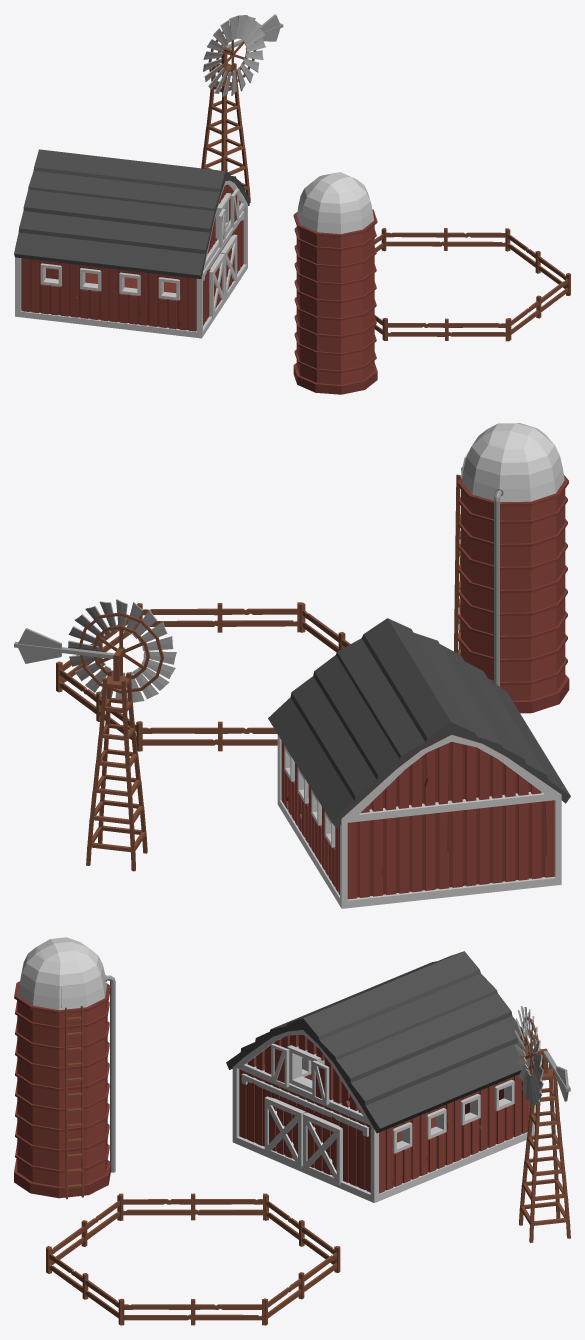
File: farm.fbx
3 renders of one model, top to bottom at view 1: azimuth 30°, elevation 25°; view 2: azimuth 150°, elevation 25°; view 3: azimuth 270°, elevation 25°, orthographic. The views are drawn at different scales.
Visible parts, largest first — view 1: Barn, Silo.001, Windmill_Blades, Windmill, Fence.001, Fence.004, Fence.002, Fence.003, Barn_Door2, Barn_Door; view 2: Barn, Silo.001, Windmill, Windmill_Blades, Fence.002, Fence, Fence.001, Fence.004; view 3: Barn, Silo.001, Windmill, Barn_Door, Barn_Door2, Fence.005, Fence.003, Windmill_Blades, Fence.001, Fence.002, Fence.004, Fence (+2 smaller).
Boxes of the visible parts, x1=… form: Barn: x1=14, y1=149, x2=250, y2=338; Silo.001: x1=293, y1=172, x2=377, y2=394; Windmill_Blades: x1=203, y1=15, x2=265, y2=96; Windmill: x1=201, y1=14, x2=283, y2=202; Fence.001: x1=382, y1=228, x2=508, y2=250; Fence.004: x1=385, y1=318, x2=509, y2=341; Fence.002: x1=507, y1=274, x2=570, y2=340; Fence.003: x1=506, y1=229, x2=570, y2=295; Barn_Door2: x1=209, y1=253, x2=224, y2=319; Barn_Door: x1=220, y1=234, x2=237, y2=300; Barn: x1=268, y1=618, x2=570, y2=908; Silo.001: x1=454, y1=423, x2=569, y2=713; Windmill: x1=14, y1=628, x2=147, y2=871; Windmill_Blades: x1=68, y1=599, x2=176, y2=702; Fence.002: x1=137, y1=602, x2=301, y2=632; Fence: x1=140, y1=721, x2=277, y2=751; Fence.001: x1=56, y1=662, x2=142, y2=751; Fence.004: x1=300, y1=602, x2=350, y2=652; Barn: x1=226, y1=951, x2=535, y2=1202; Silo.001: x1=14, y1=937, x2=115, y2=1199; Windmill: x1=519, y1=1048, x2=570, y2=1242; Barn_Door: x1=303, y1=1112, x2=342, y2=1185; Barn_Door2: x1=264, y1=1096, x2=305, y2=1168; Fence.005: x1=119, y1=1193, x2=267, y2=1220; Fence.003: x1=120, y1=1299, x2=265, y2=1325; Windmill_Blades: x1=514, y1=1006, x2=543, y2=1105; Fence.001: x1=262, y1=1246, x2=340, y2=1325; Fence.002: x1=46, y1=1247, x2=124, y2=1325; Fence.004: x1=46, y1=1194, x2=121, y2=1271; Fence: x1=265, y1=1194, x2=336, y2=1272.
Size of the model in its own units: 565 by 244 by 525.
